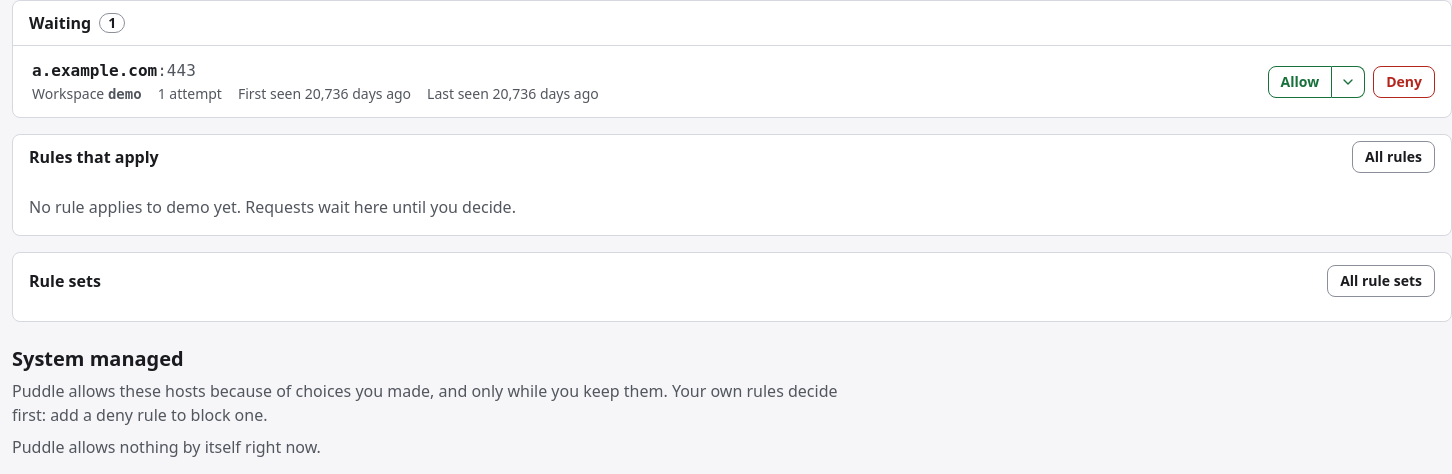
Test: the network tab › allows a request with one click, and the row leaves
Click the button "Allow": (1300, 82) [1268,66,1332,98]
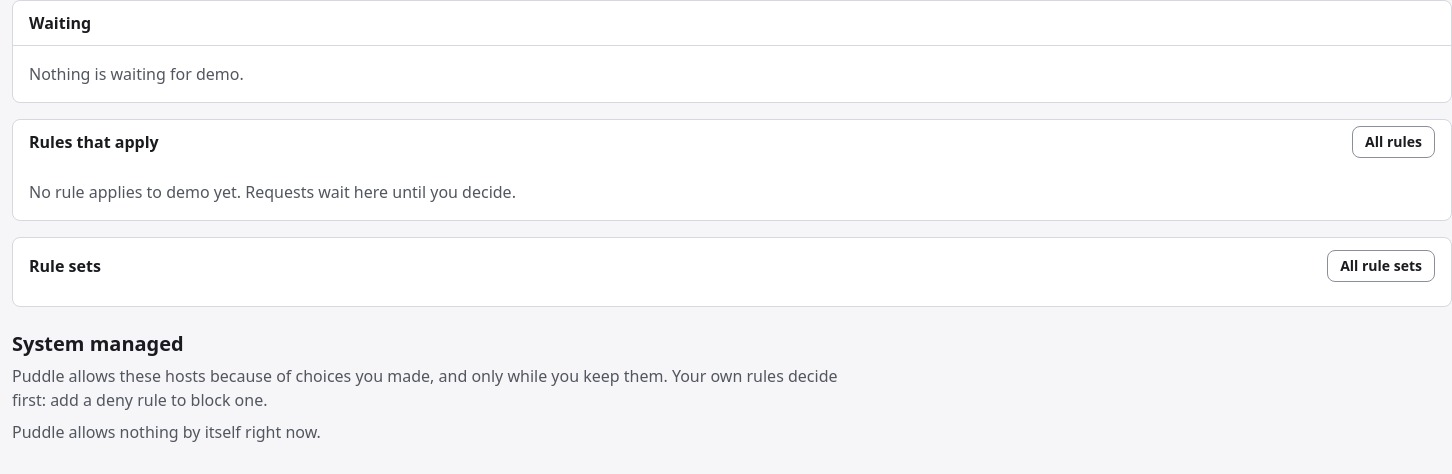
Expected: the text "Nothing is waiting for demo." is shown, [29,63,244,85]
